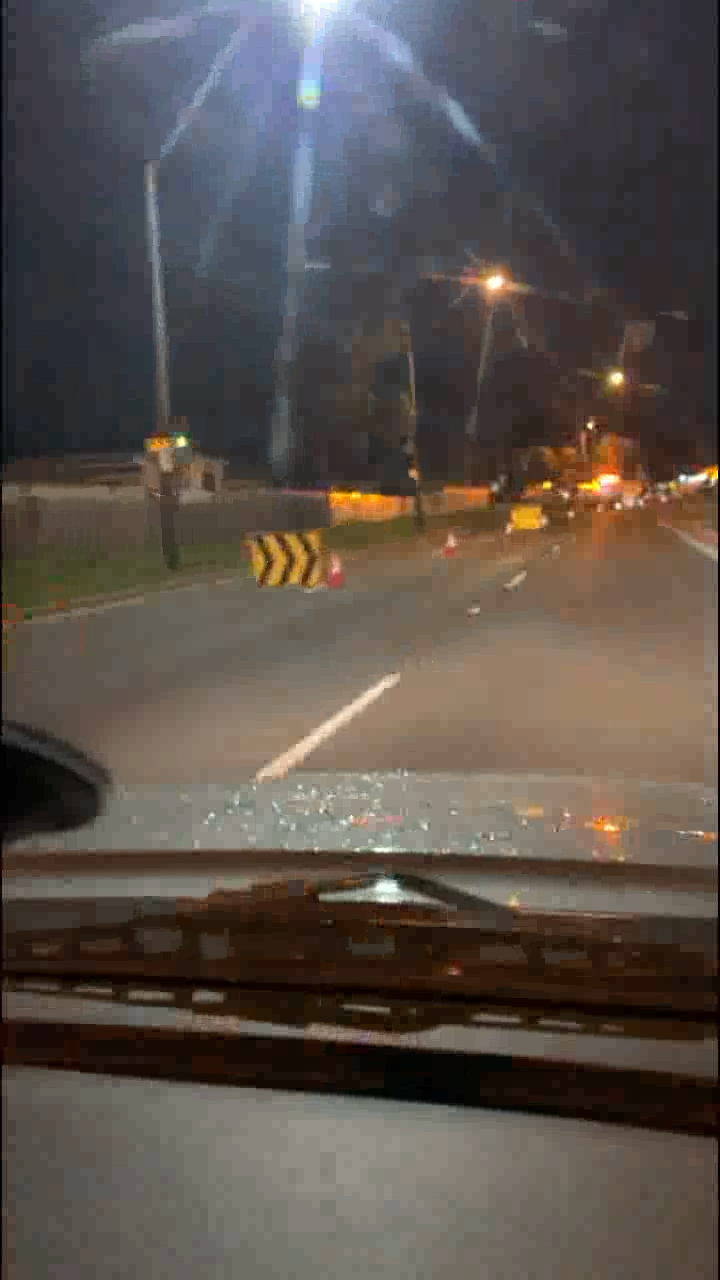road cone: (445, 530, 454, 557)
road works sign board: (247, 538, 343, 596)
